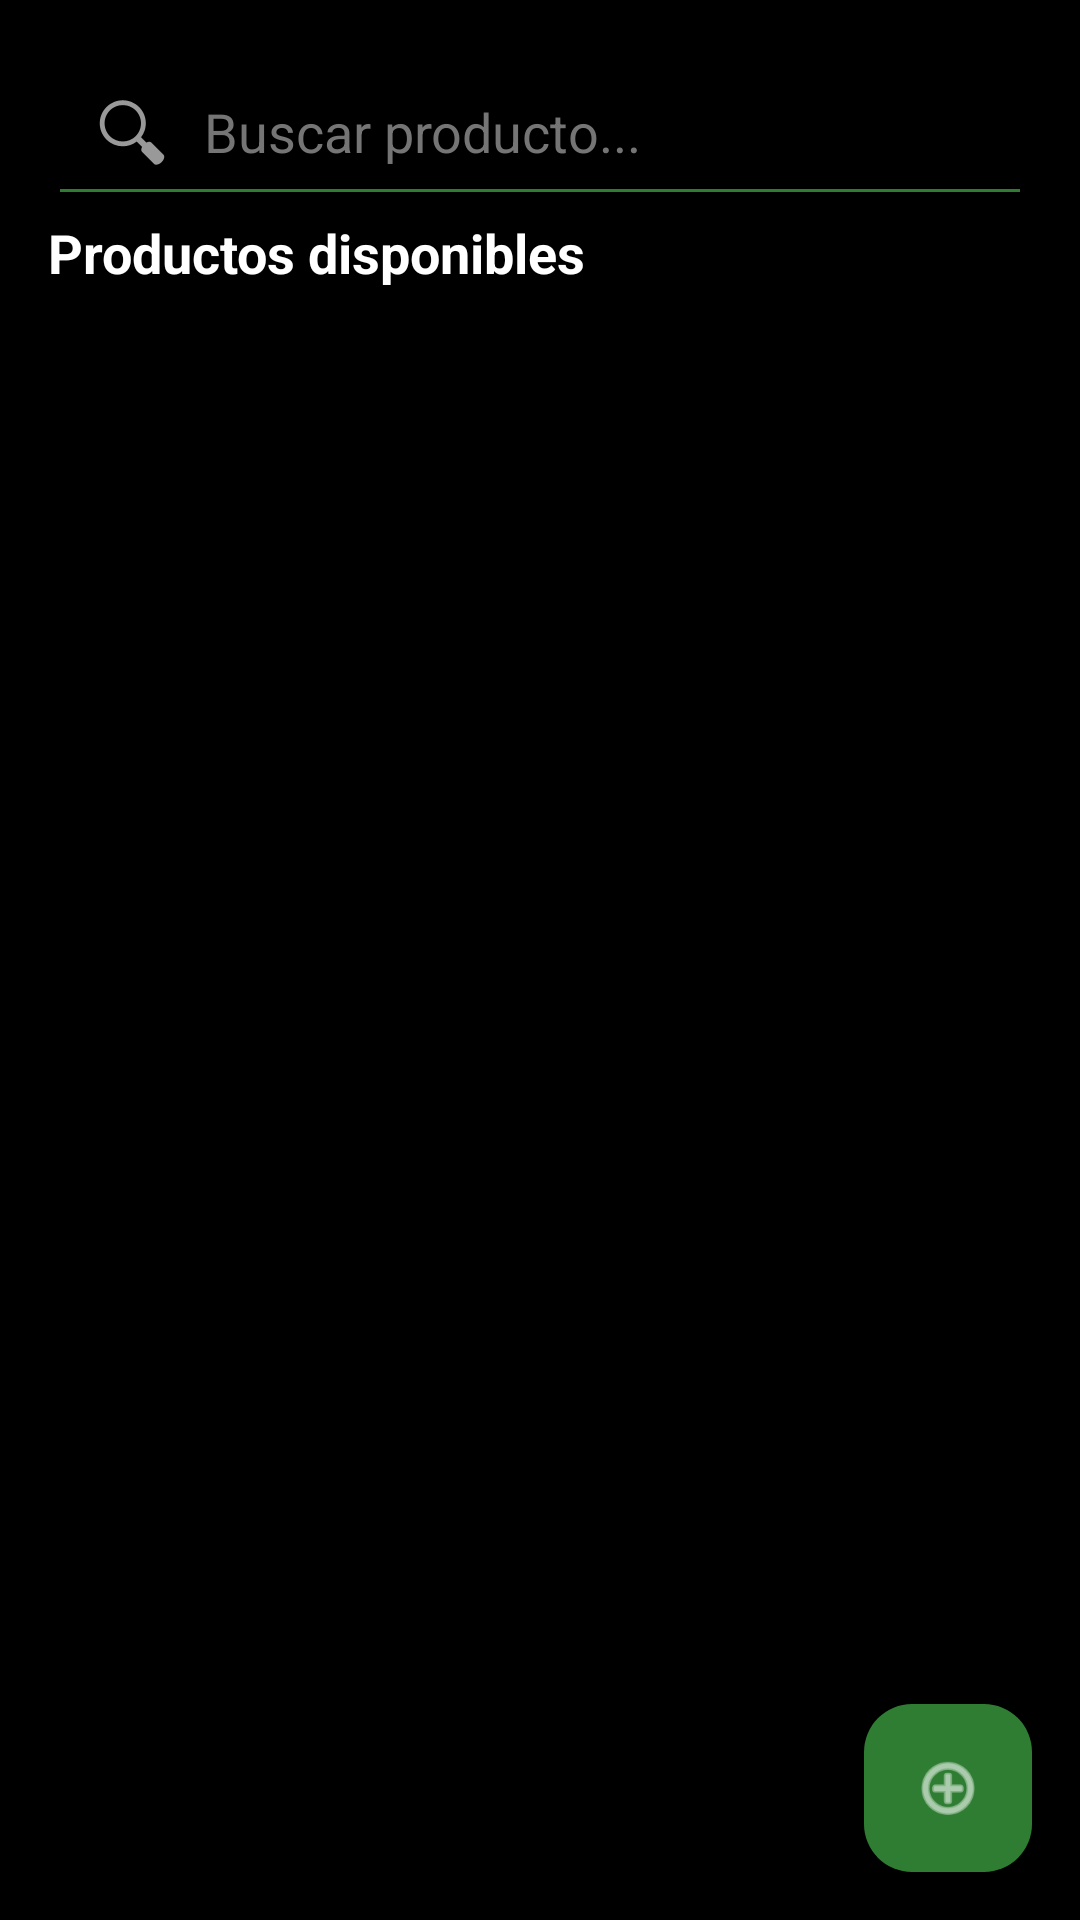

Icons on this 1080px×1920px Android screen, each with its box as {"x1": x1, "y1": y1, "x2": x2, "y2": y2}:
Agregar producto: {"x1": 864, "y1": 1704, "x2": 1032, "y2": 1872}
